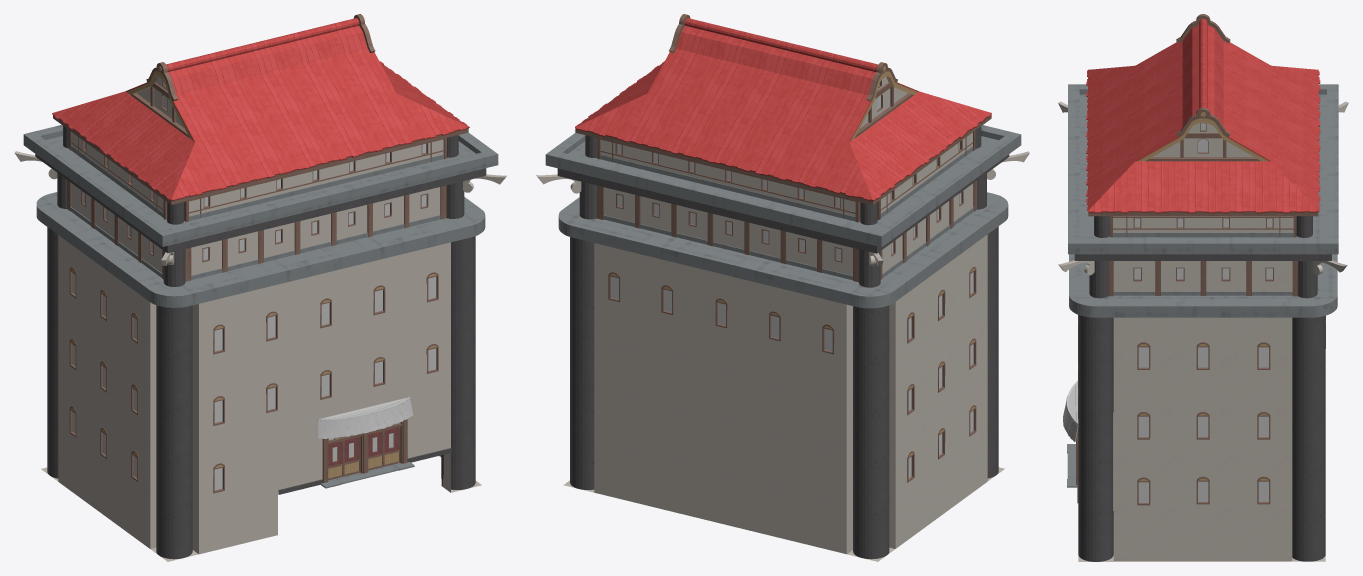
The model's file is SM_ENV_KNVLLG_AreaJ_Building_A_Part01.fbx.
3 views of the same model, side by side, from view 1: azimuth 30°, elevation 25°; view 2: azimuth 150°, elevation 25°; view 3: azimuth 270°, elevation 25° (orthographic). The views are drawn at different scales.
Parts seen in each view (by area): view 1: SM_ENV_KNVLLG_AreaJ_Building_A_Part01.mo; view 2: SM_ENV_KNVLLG_AreaJ_Building_A_Part01.mo; view 3: SM_ENV_KNVLLG_AreaJ_Building_A_Part01.mo.
Boxes of the visible parts, x1,y1,x2,y2 form: SM_ENV_KNVLLG_AreaJ_Building_A_Part01.mo: (14,14,506,561); SM_ENV_KNVLLG_AreaJ_Building_A_Part01.mo: (536,14,1029,561); SM_ENV_KNVLLG_AreaJ_Building_A_Part01.mo: (1058,14,1348,561).
Bounding box in the file's own units: 6774 × 8145 × 5047.
